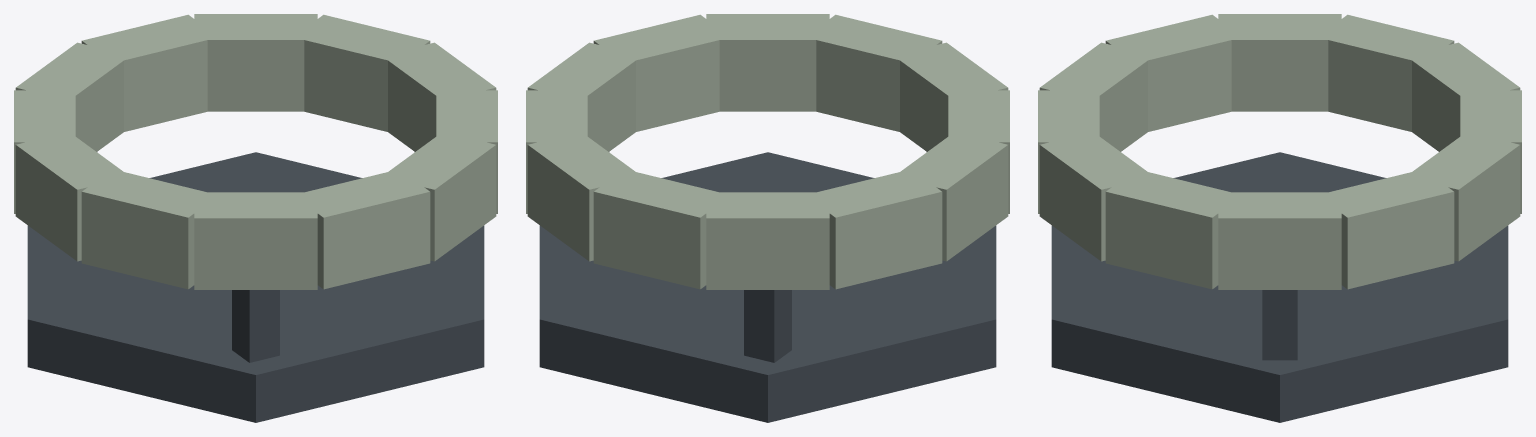
The model's file is SH_EngineCoil_01.glb.
3 renders of one model, left to right at view 1: azimuth 30°, elevation 25°; view 2: azimuth 150°, elevation 25°; view 3: azimuth 270°, elevation 25°, orthographic.
Parts seen in each view (by area): view 1: SH_EngineCoil_01; view 2: SH_EngineCoil_01; view 3: SH_EngineCoil_01.
Part boxes in pixels (left/top/right/bottom): SH_EngineCoil_01: left=14, top=14, right=497, bottom=422; SH_EngineCoil_01: left=526, top=14, right=1009, bottom=422; SH_EngineCoil_01: left=1038, top=14, right=1521, bottom=422.
Size of the model in its own units: 0.6 by 0.245 by 0.55.
1 material, 1 textured.
